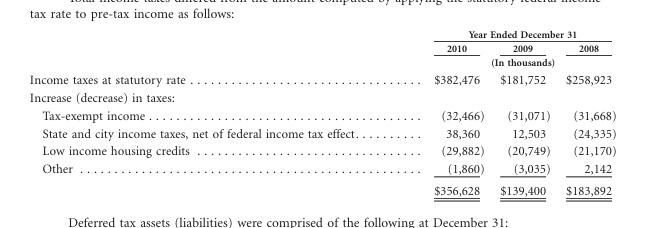table: (28, 28, 615, 197)
table column: (28, 28, 395, 197), (395, 28, 491, 197), (491, 28, 557, 197), (557, 28, 615, 197)
table column header: (28, 28, 615, 70)
table projected row header: (28, 88, 615, 106)
table row: (28, 159, 615, 179), (28, 70, 615, 88), (28, 88, 615, 106), (28, 106, 615, 124), (28, 141, 615, 159), (28, 179, 615, 197), (28, 124, 615, 141), (28, 55, 615, 70), (28, 41, 615, 55), (28, 28, 615, 41)
table spanning cell: (395, 55, 615, 70), (395, 28, 615, 41)
